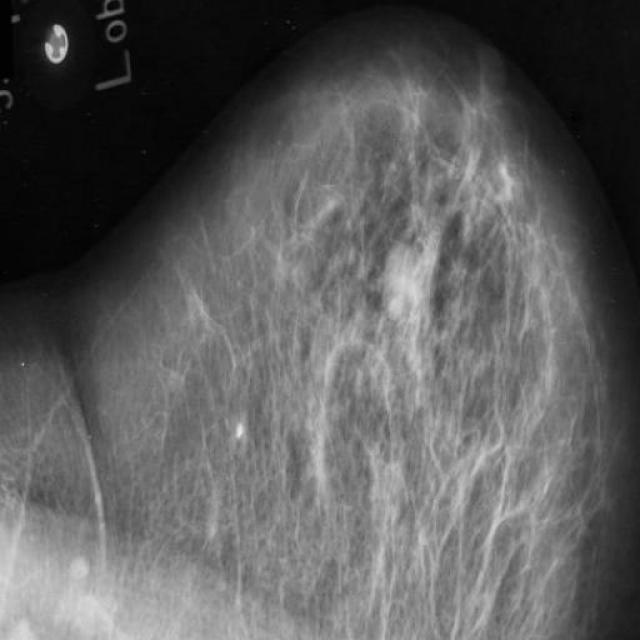cancer: (372, 330, 436, 420)
